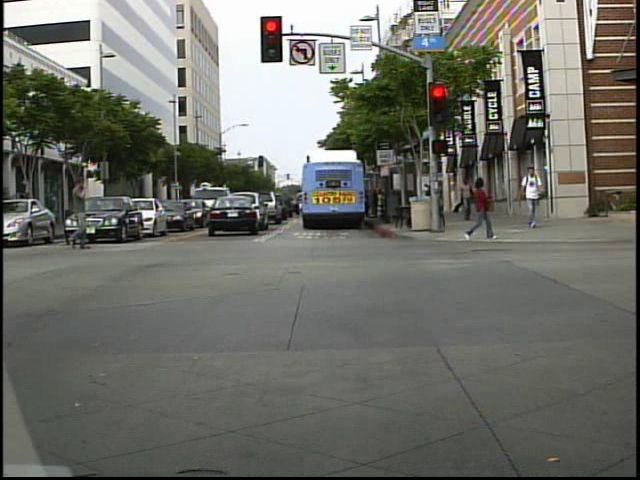person: (464, 170, 498, 245)
